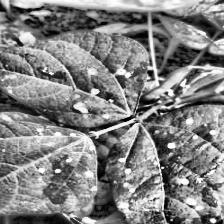Bean Rust: (113, 102, 223, 224), (0, 30, 143, 123), (0, 123, 107, 213)
